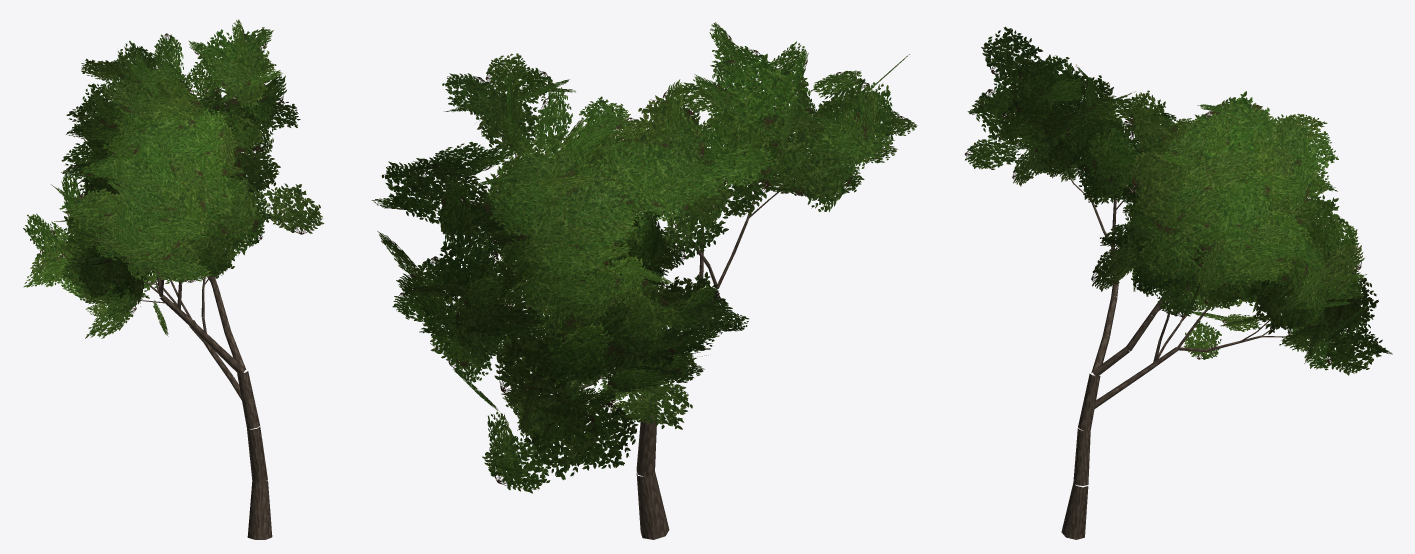
The model's file is tree_2.glb.
3 renders of one model, left to right at view 1: azimuth 30°, elevation 25°; view 2: azimuth 150°, elevation 25°; view 3: azimuth 270°, elevation 25°, orthographic. The views are drawn at different scales.
Parts seen in each view (by area): view 1: Tree_2; view 2: Tree_2; view 3: Tree_2.
Part boxes in pixels (<box>): Tree_2: <box>23,19,324,539</box>; Tree_2: <box>371,22,917,539</box>; Tree_2: <box>964,26,1392,539</box>.
Bounding box in the file's own units: 15.38 × 19.22 × 17.32.
Materials: 2 (2 with a texture image).
